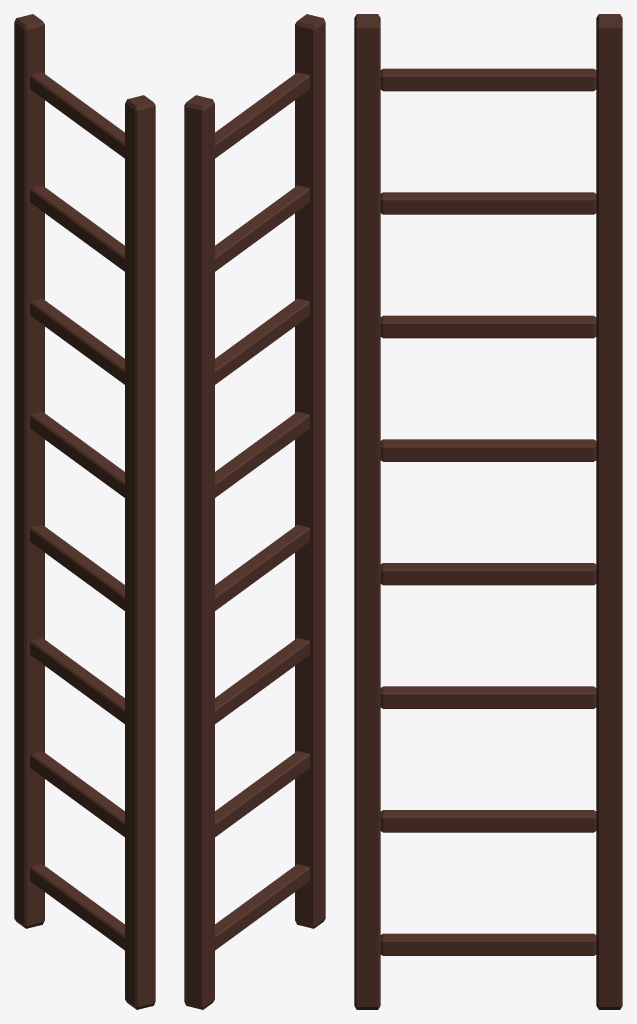
The model's file is Ladder-col.glb.
The picture shows the model from 3 angles, left to right: view 1: azimuth 30°, elevation 25°; view 2: azimuth 150°, elevation 25°; view 3: azimuth 270°, elevation 25°; orthographic projection. The views are drawn at different scales.
Parts seen in each view (by area): view 1: Ladder-col; view 2: Ladder-col; view 3: Ladder-col.
Part boxes in pixels (x1=…): Ladder-col: x1=14, y1=14, x2=155, y2=1009; Ladder-col: x1=184, y1=14, x2=325, y2=1009; Ladder-col: x1=354, y1=14, x2=622, y2=1009.
Bounding box in the file's own units: 0.0554 × 2.3 × 0.5668.
